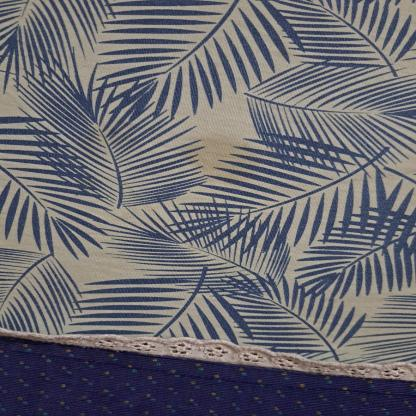spot: (192, 138, 288, 184)
